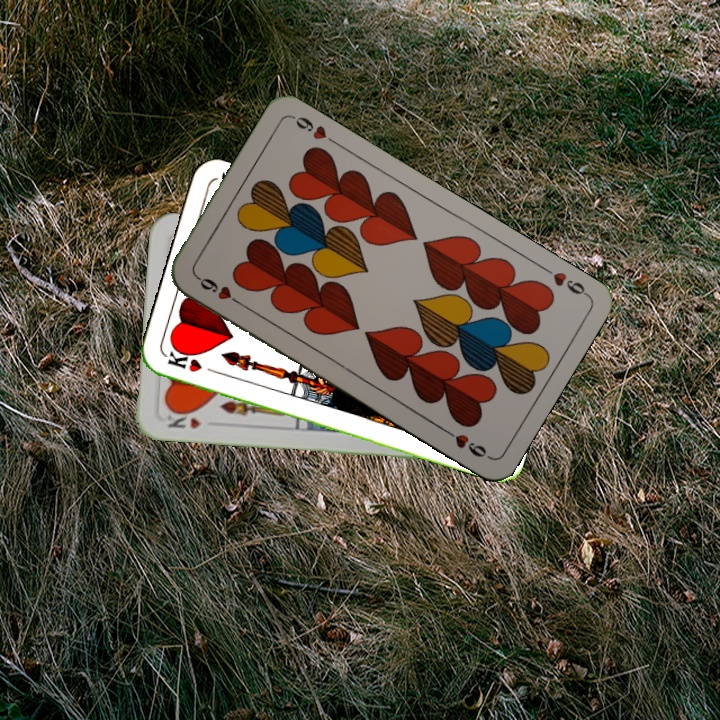H9: (537, 262, 591, 299), (192, 272, 245, 309)
HK: (163, 347, 221, 377), (163, 406, 204, 431)
